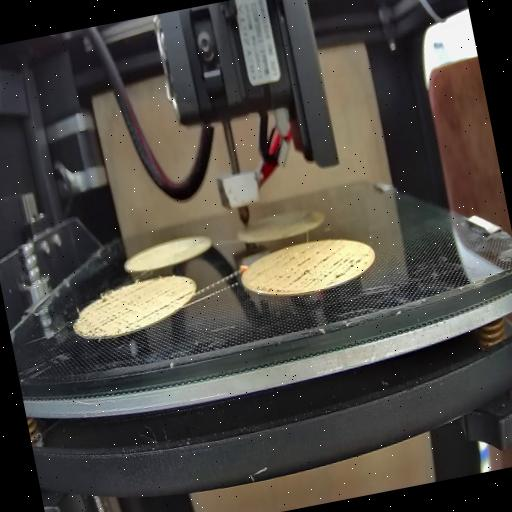under_extrusion: (250, 239, 374, 297), (75, 276, 177, 338), (172, 280, 200, 306)
